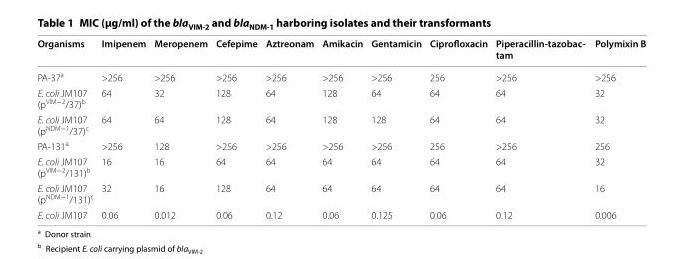table: (36, 36, 645, 220)
table column: (490, 36, 589, 220), (425, 36, 490, 220), (149, 36, 211, 220), (36, 36, 96, 220), (366, 36, 425, 220), (260, 36, 317, 220), (589, 36, 645, 220), (96, 36, 149, 220), (211, 36, 260, 220), (317, 36, 366, 220)
table column header: (36, 36, 645, 65)
table row: (36, 36, 645, 65), (36, 84, 645, 111), (36, 153, 645, 180), (36, 111, 645, 137), (36, 180, 645, 206), (36, 65, 645, 84), (36, 137, 645, 153), (36, 206, 645, 220)
